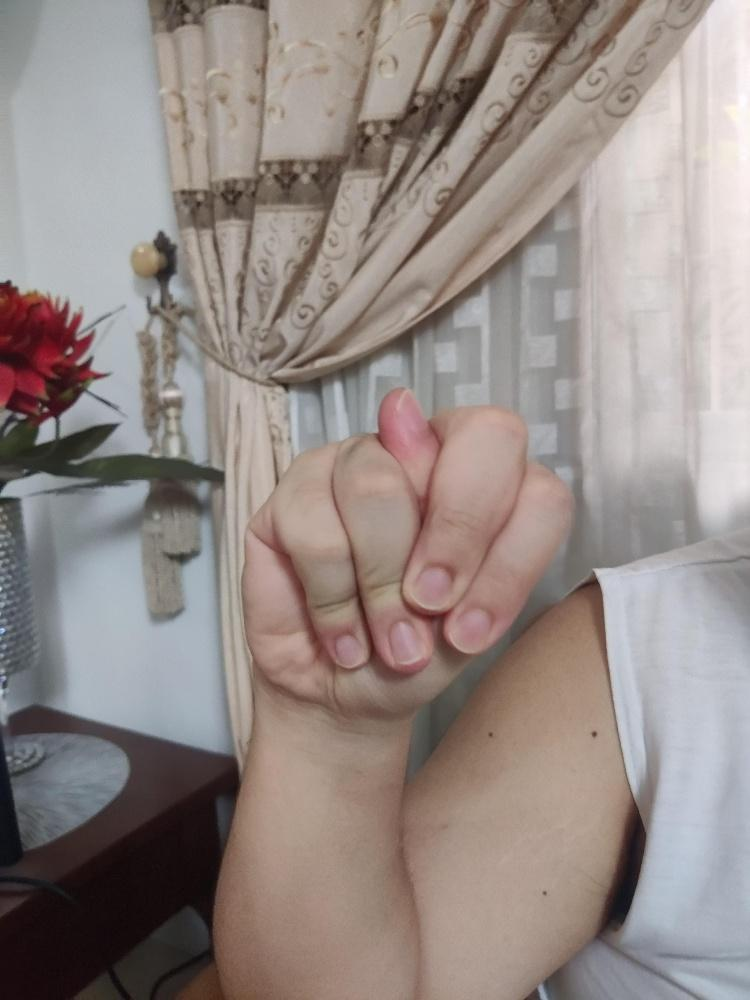n: (240, 385, 574, 718)
